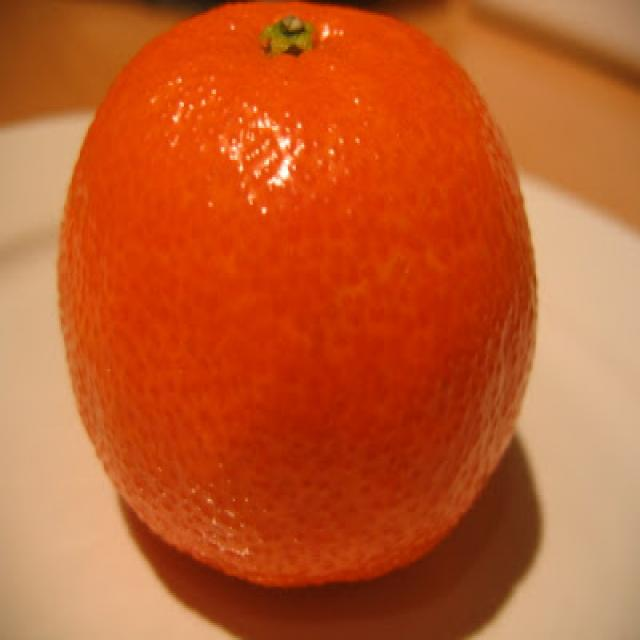Orange: (53, 0, 547, 587)
